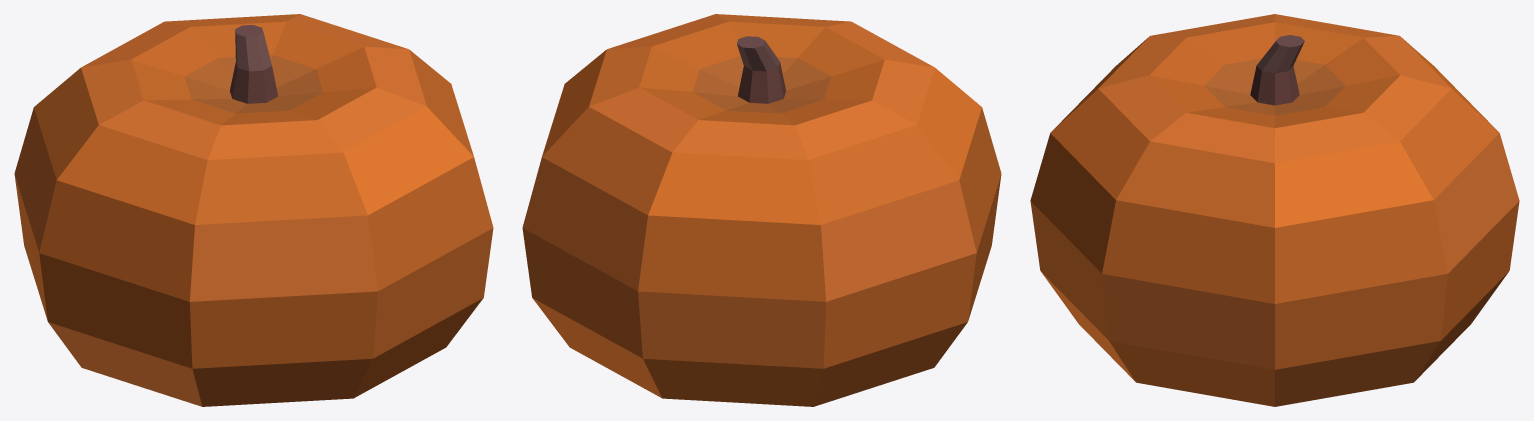
Rendered from pumpkin_orange.fbx.
3 views of the same model, side by side, from view 1: azimuth 30°, elevation 25°; view 2: azimuth 150°, elevation 25°; view 3: azimuth 270°, elevation 25° (orthographic).
Parts seen in each view (by area): view 1: pumpkin_orang; view 2: pumpkin_orang; view 3: pumpkin_orang.
Part boxes in pixels (x1=…): pumpkin_orang: x1=14, y1=14, x2=493, y2=406; pumpkin_orang: x1=522, y1=14, x2=1001, y2=406; pumpkin_orang: x1=1030, y1=14, x2=1519, y2=406.
Bounding box in the file's own units: 28.44 × 18.99 × 28.44.
